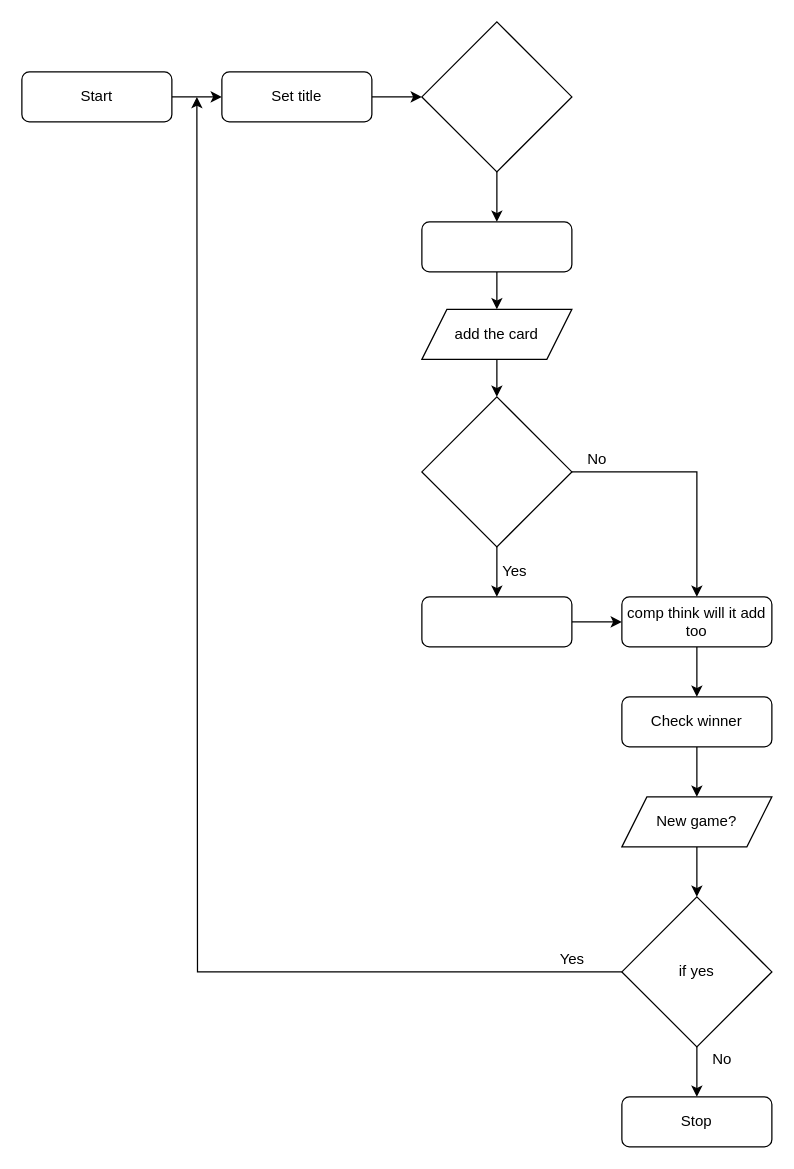
Some shapes in this 794 by 1169 pixel diagram are drawn without their labels. Each missing label, with the centre of its shape:
add the card to player hand: point 496,621
Deal the cards: point 496,246
if card add: point 496,471
while game: point 496,96
